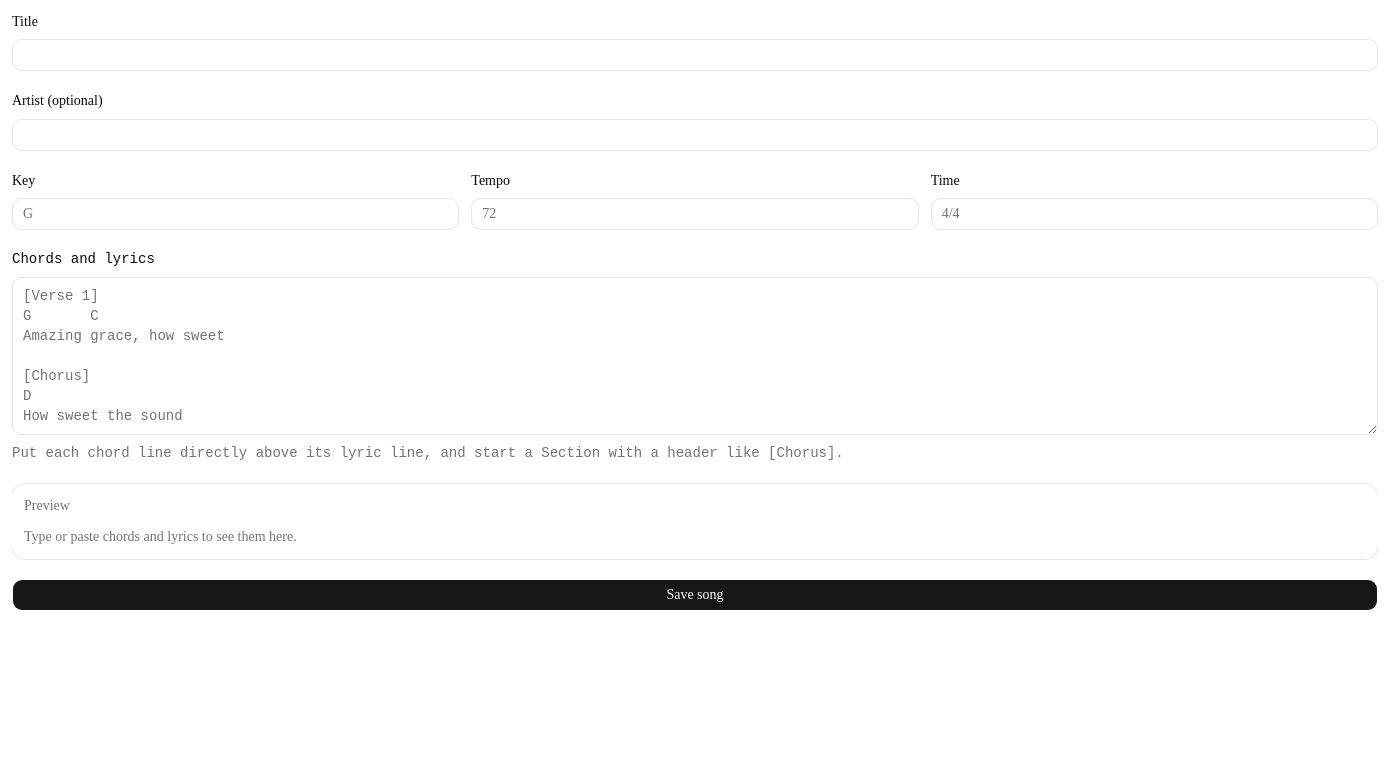
Test: the Song form › refuses a missing title and a tempo that is not a number, saying why, and does not save
Click the field labelled "Tempo": (695, 214) left=471, top=198, right=919, bottom=230
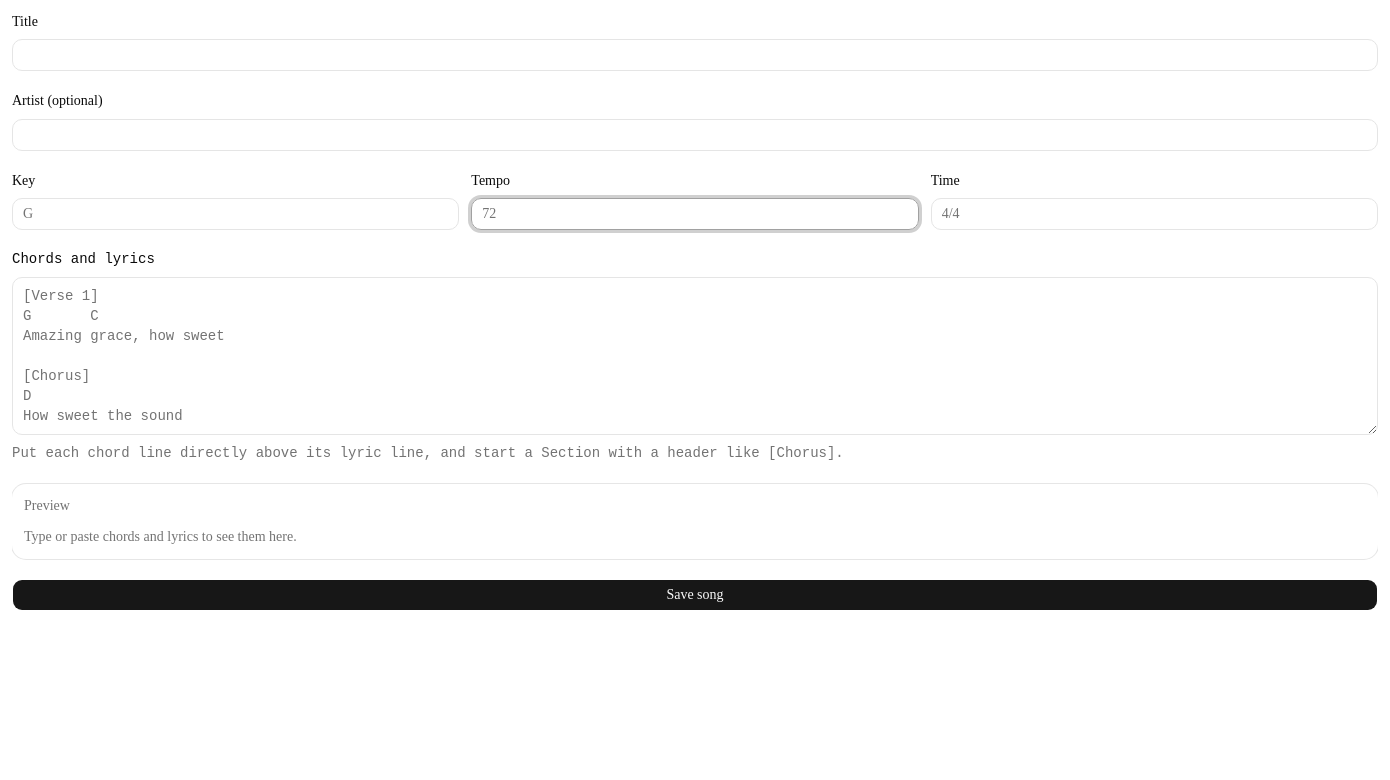
Type keys "72bpm"
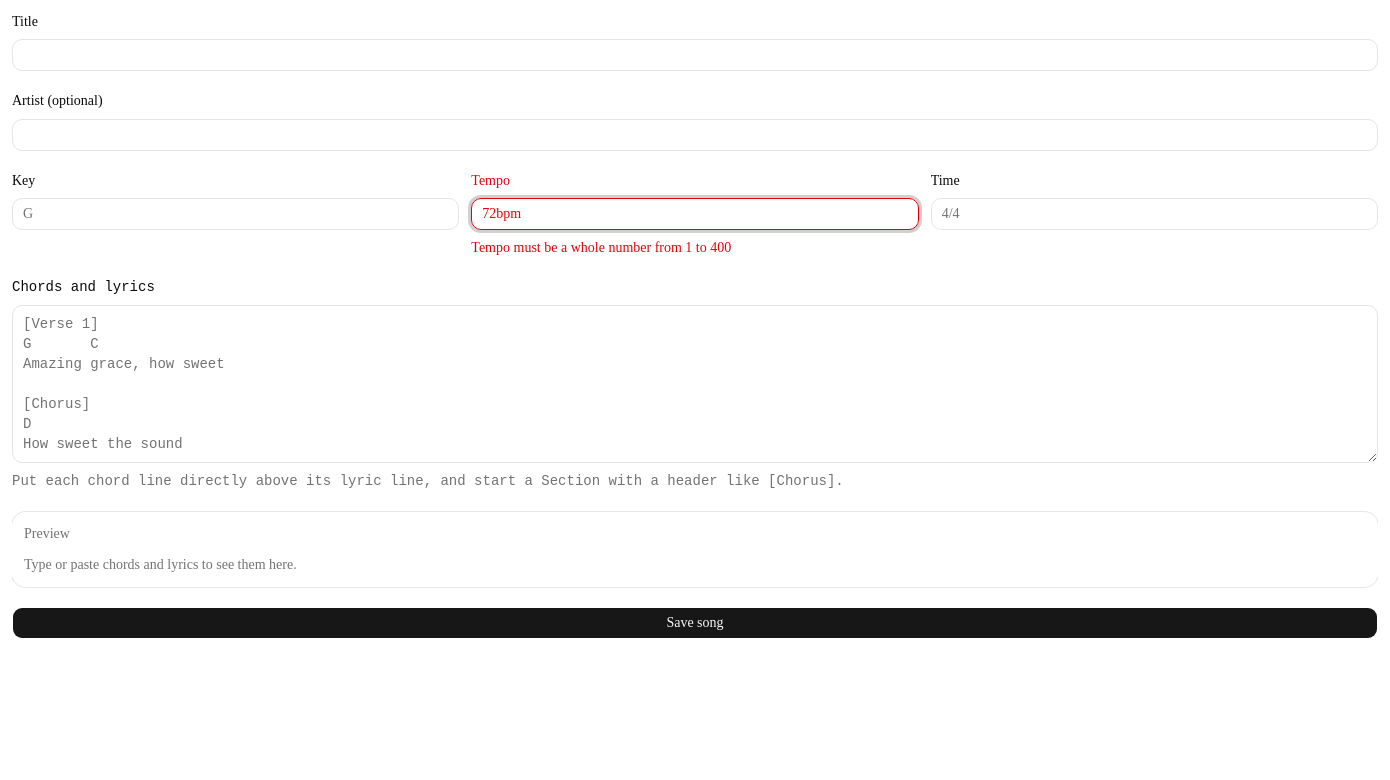
Click the button "Save song": (695, 623) left=12, top=607, right=1378, bottom=639
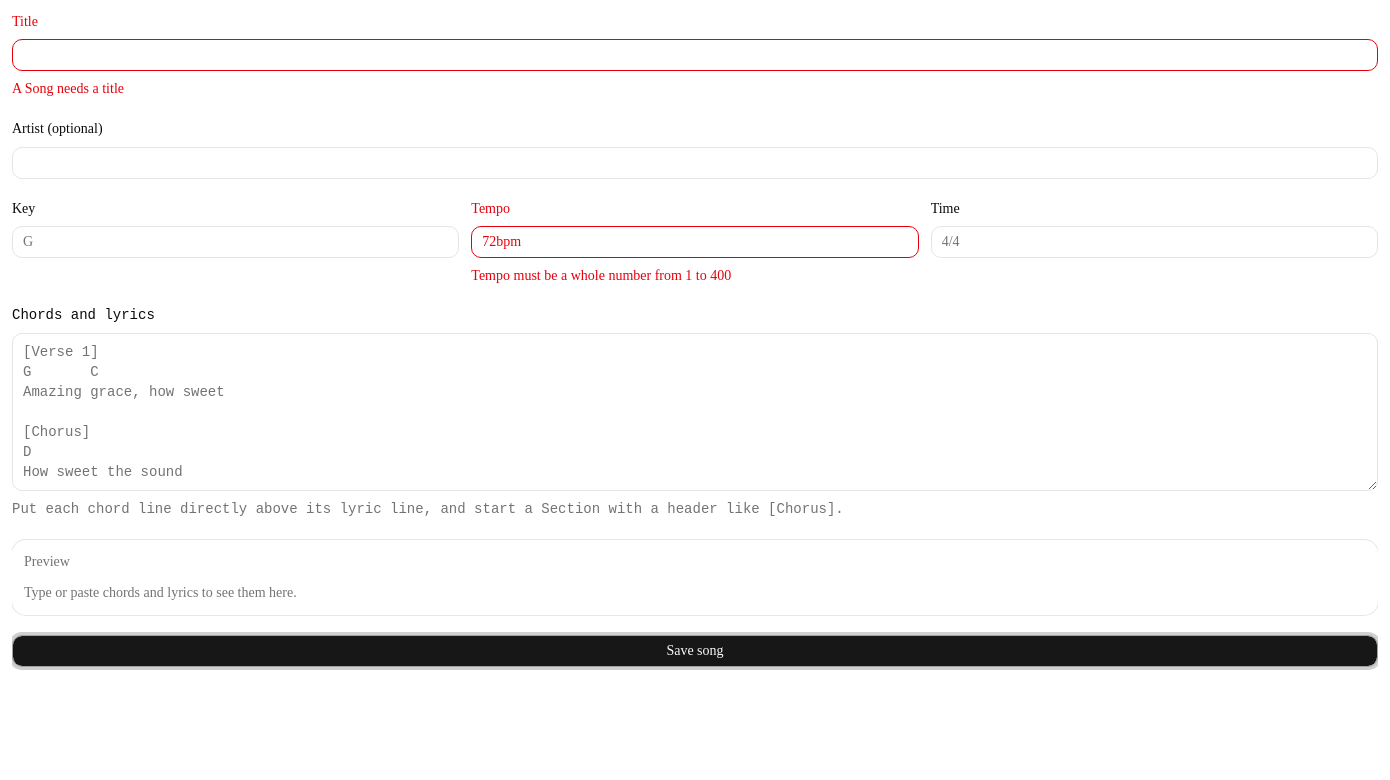
Expected: the text "Tempo must be a whole number from 1 to 400" is shown, left=471, top=268, right=731, bottom=283
Expected: the text "A Song needs a title" is shown, left=12, top=81, right=124, bottom=96
